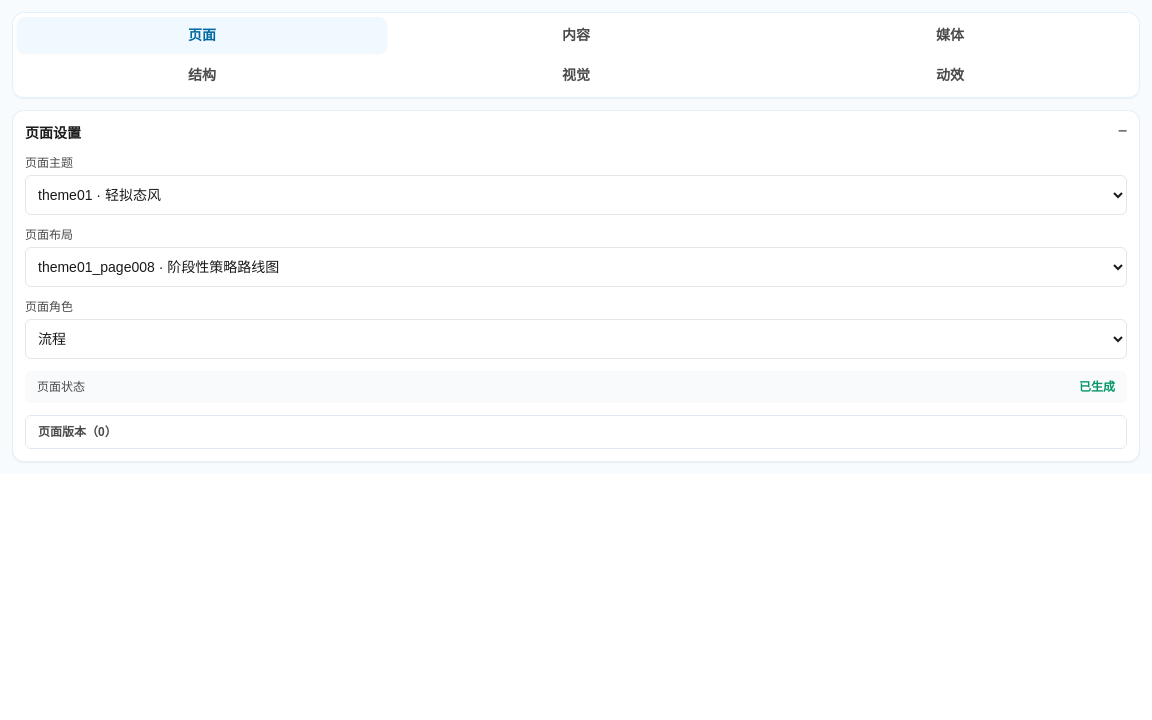
Scenario: NativeDeckPropertyPanel DashiAI fields › shows busy state for array media slots using the same id as the batch queue
This screenshot has width=1152, height=720.
Click the tab "媒体": click(950, 35) [765, 17, 1135, 53]
(page scrolled)
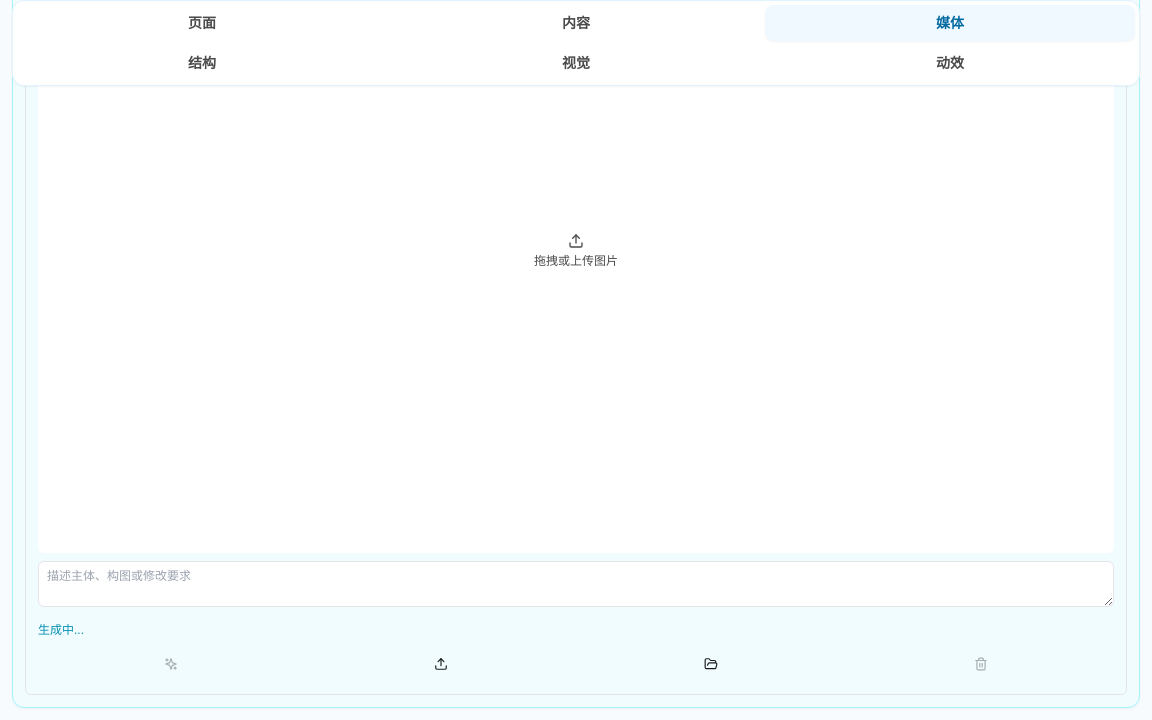
Now the message reads "生成中...", box [38, 623, 84, 637]
